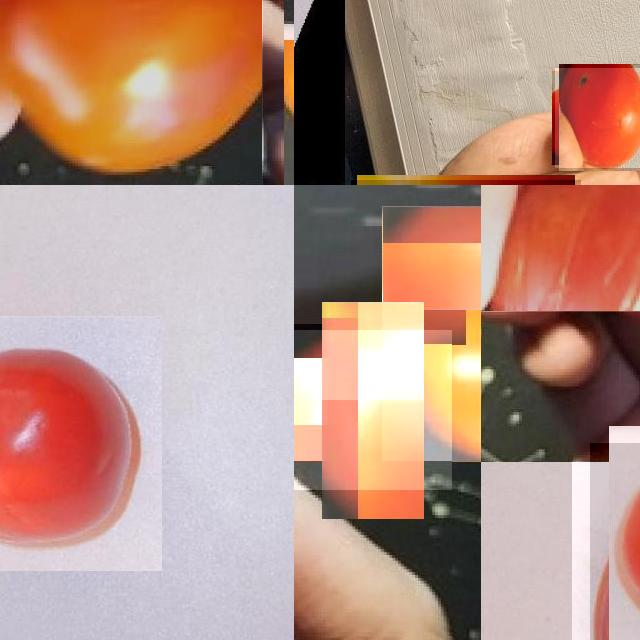Fresh Tomato: (0, 0, 262, 185), (0, 316, 161, 571), (382, 206, 481, 462), (294, 330, 452, 490), (555, 67, 640, 168)
Rotten Tomato: (481, 185, 640, 311)
